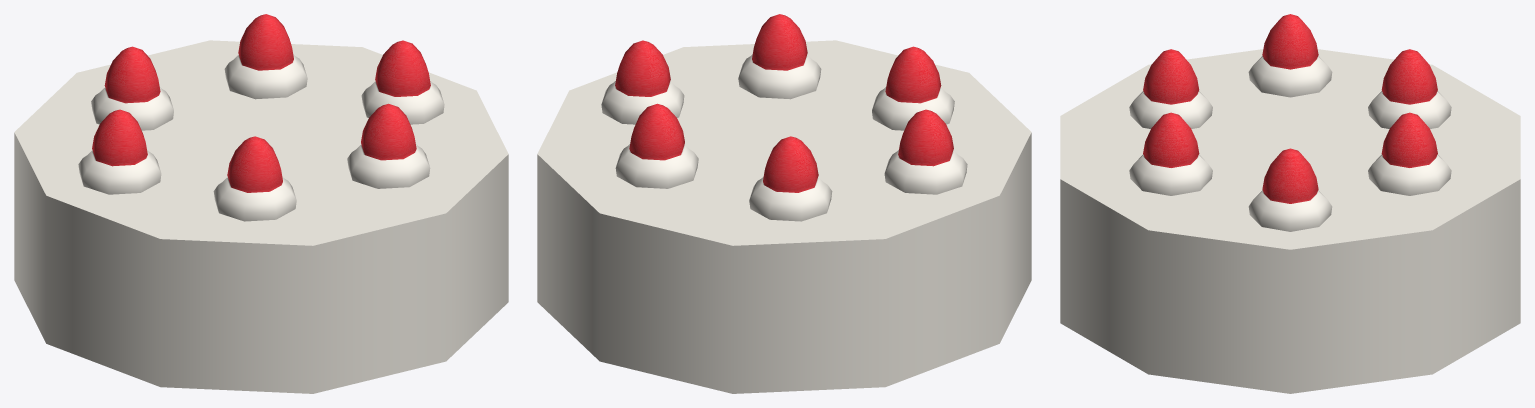
Rendered from Cake.fbx.
The picture shows the model from 3 angles, left to right: view 1: azimuth 30°, elevation 25°; view 2: azimuth 150°, elevation 25°; view 3: azimuth 270°, elevation 25°; orthographic projection. The views are drawn at different scales.
Parts seen in each view (by area): view 1: pSphere28; view 2: pSphere28; view 3: pSphere28.
Part boxes in pixels (<box>): pSphere28: <box>14,14,508,393</box>; pSphere28: <box>537,14,1031,393</box>; pSphere28: <box>1060,14,1520,393</box>.
Size of the model in its own units: 12.17 by 5.84 by 11.57.
1 material, 1 textured.
